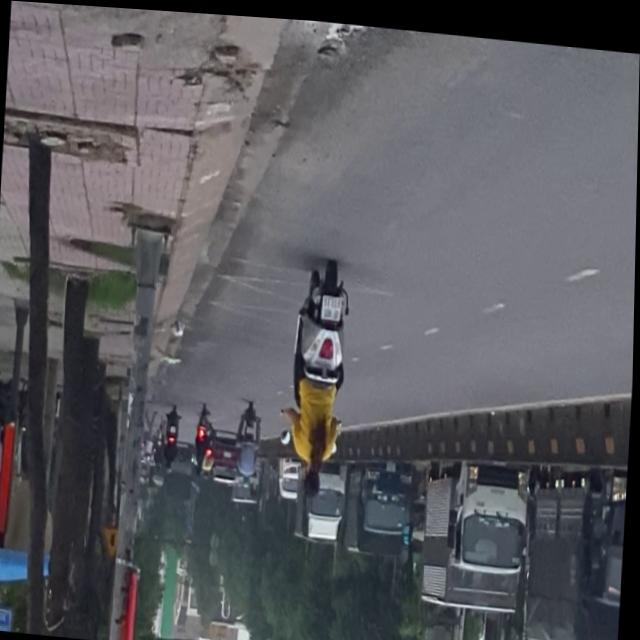licenseplate: (284, 251, 356, 500)
motorcyclist: (304, 460, 326, 496)
nohelmet: (322, 290, 343, 318)
